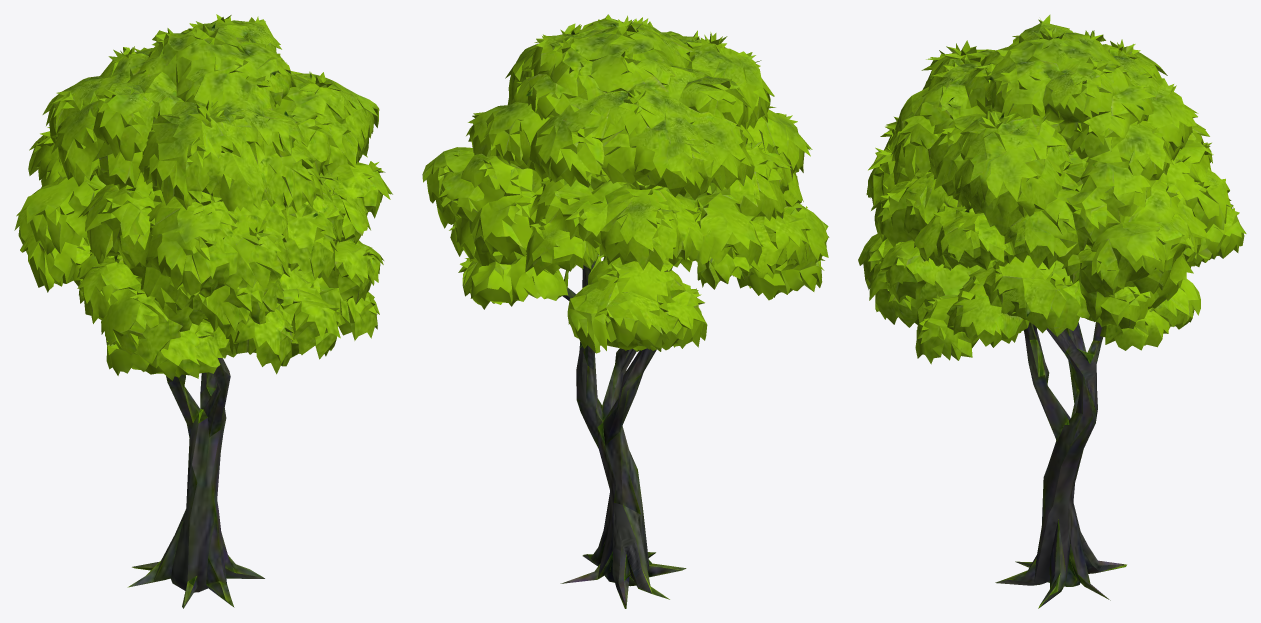
File: tree-common-b.glb
3 renders of one model, left to right at view 1: azimuth 30°, elevation 25°; view 2: azimuth 150°, elevation 25°; view 3: azimuth 270°, elevation 25°, orthographic.
Visible parts, largest first — view 1: Mesh_0; view 2: Mesh_0; view 3: Mesh_0.
Part boxes in pixels (x1,y1,x2,y2): Mesh_0: (14, 14, 392, 608); Mesh_0: (422, 14, 829, 608); Mesh_0: (858, 14, 1246, 608).
Bounding box in the file's own units: 2.99 × 5 × 3.16.
1 material, 1 textured.
